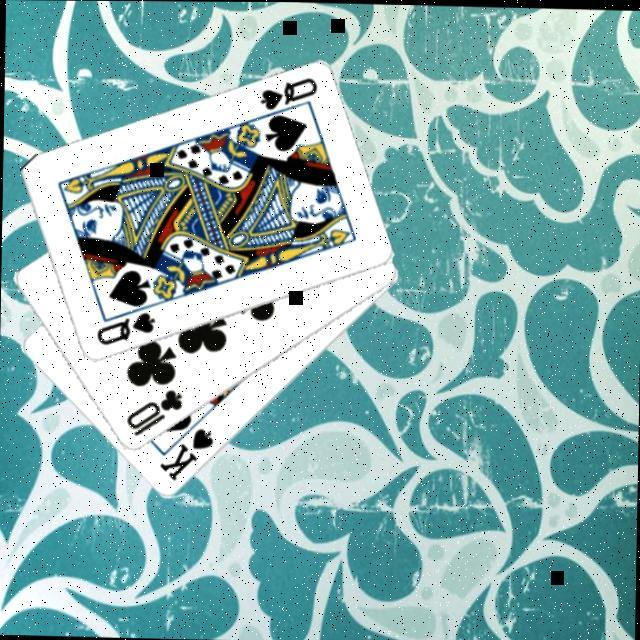10C: (121, 384, 185, 440)
KS: (154, 422, 216, 483)
QS: (91, 306, 157, 348), (254, 72, 318, 113)
